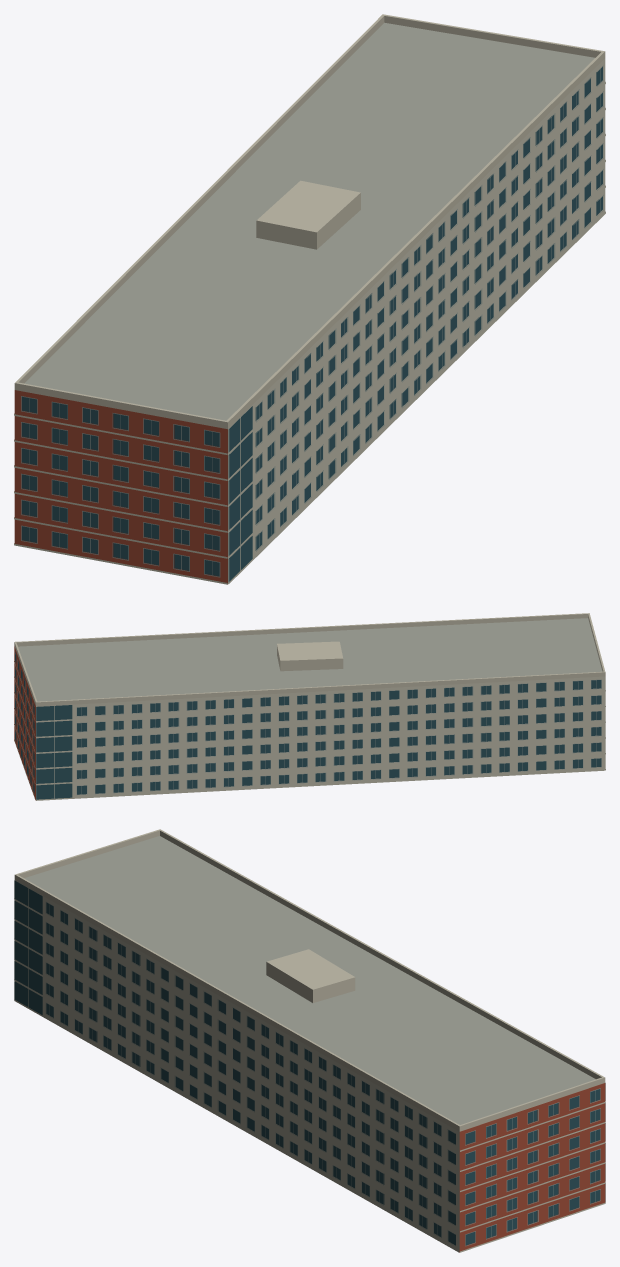
The picture shows the model from 3 angles, top to bottom: view 1: azimuth 30°, elevation 25°; view 2: azimuth 150°, elevation 25°; view 3: azimuth 270°, elevation 25°; orthographic projection. The views are drawn at different scales.
Visible parts, largest first — view 1: B17_teaching, V05_B17_facade, B17_teaching_parapet, B17_teaching_plant; view 2: B17_teaching, V05_B17_facade, B17_teaching_parapet, B17_teaching_plant; view 3: B17_teaching, V05_B17_facade, B17_teaching_parapet, B17_teaching_plant.
Boxes of the visible parts, x1,y1,x2,y2 form: B17_teaching: (14,22,605,584); V05_B17_facade: (14,65,605,584); B17_teaching_parapet: (14,14,605,429); B17_teaching_plant: (256,180,360,249); B17_teaching: (14,618,605,800); V05_B17_facade: (14,652,605,800); B17_teaching_parapet: (14,613,605,706); B17_teaching_plant: (277,641,343,671); B17_teaching: (14,836,605,1252); V05_B17_facade: (14,880,605,1252); B17_teaching_parapet: (14,829,605,1131); B17_teaching_plant: (266,949,355,1002).
Bounding box in the file's own units: 94.99 × 20 × 79.84.
